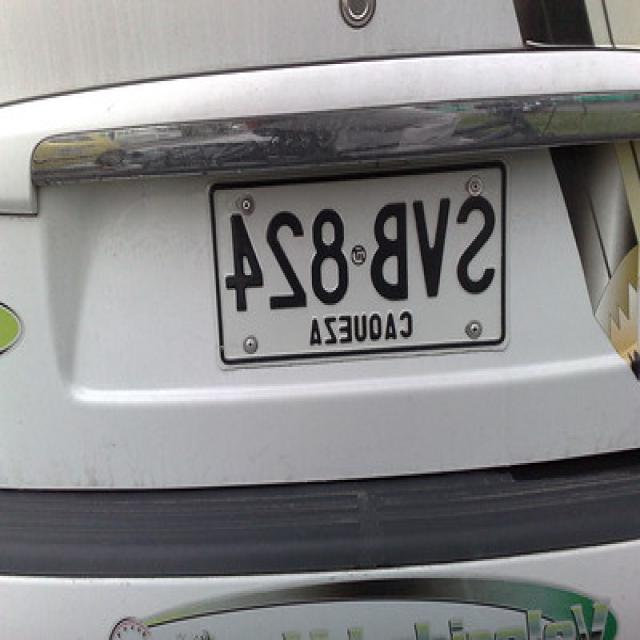placas: (215, 179, 499, 317)
